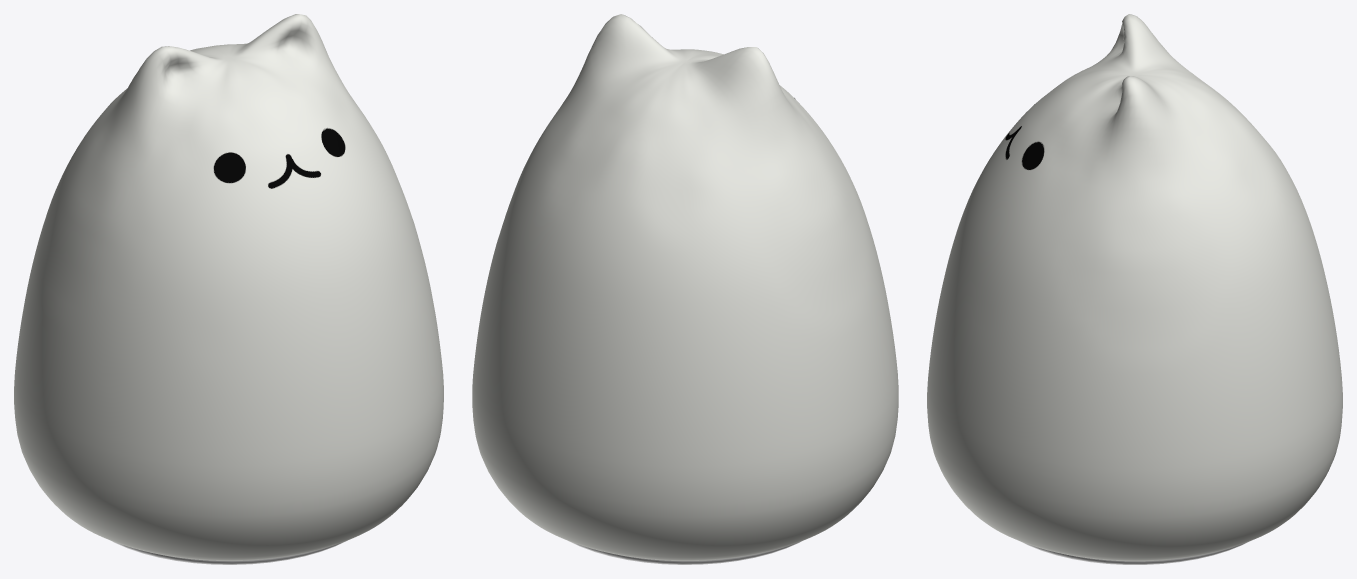
The model's file is CatLamp_Export.obj.
The picture shows the model from 3 angles, left to right: view 1: azimuth 30°, elevation 25°; view 2: azimuth 150°, elevation 25°; view 3: azimuth 270°, elevation 25°; orthographic projection. The views are drawn at different scales.
Visible parts, largest first — view 1: Body_Untitled, Base_Untitled.001; view 2: Body_Untitled, Base_Untitled.001; view 3: Body_Untitled, Base_Untitled.001.
Boxes of the visible parts, x1,y1,x2,y2 form: Body_Untitled: [14, 14, 443, 560]; Base_Untitled.001: [112, 540, 347, 564]; Body_Untitled: [472, 14, 898, 560]; Base_Untitled.001: [568, 541, 801, 564]; Body_Untitled: [927, 14, 1342, 561]; Base_Untitled.001: [1022, 542, 1247, 564].
Size of the model in its own units: 3.95 by 4.83 by 3.95.
